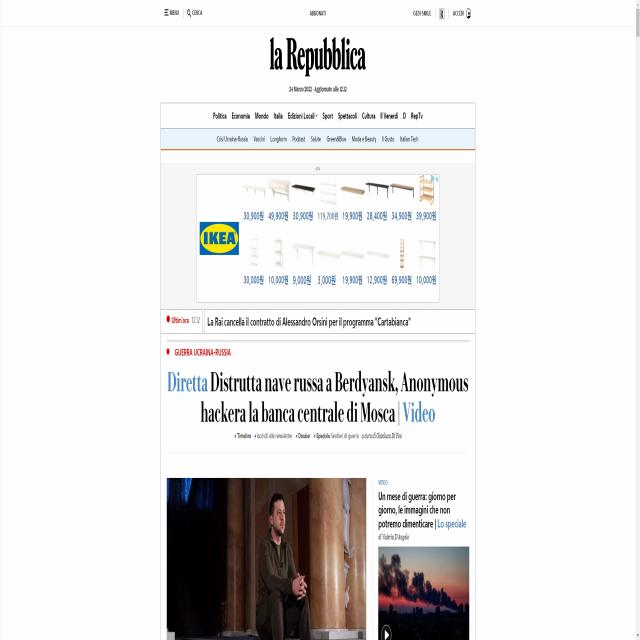menu-bar: (410, 3, 474, 26)
tab-bar: (211, 106, 425, 125), (215, 132, 422, 148)
